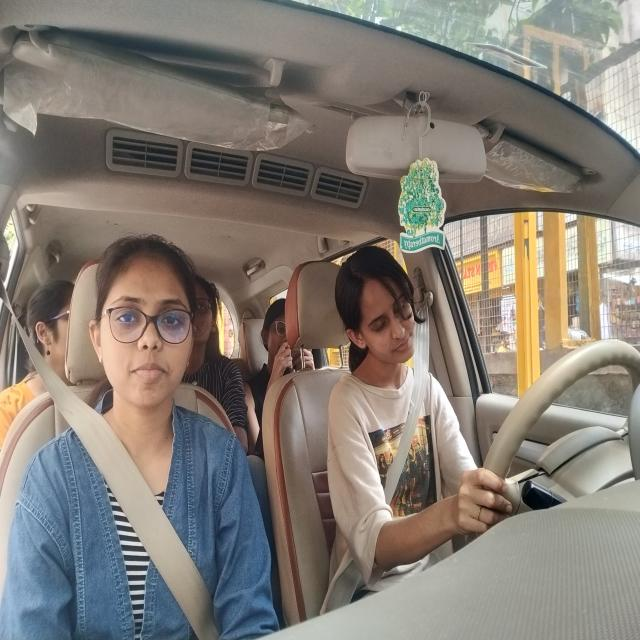drowsy: (336, 242, 425, 372)
person: (90, 236, 196, 412), (25, 278, 79, 397), (192, 271, 224, 360), (261, 299, 294, 376)
